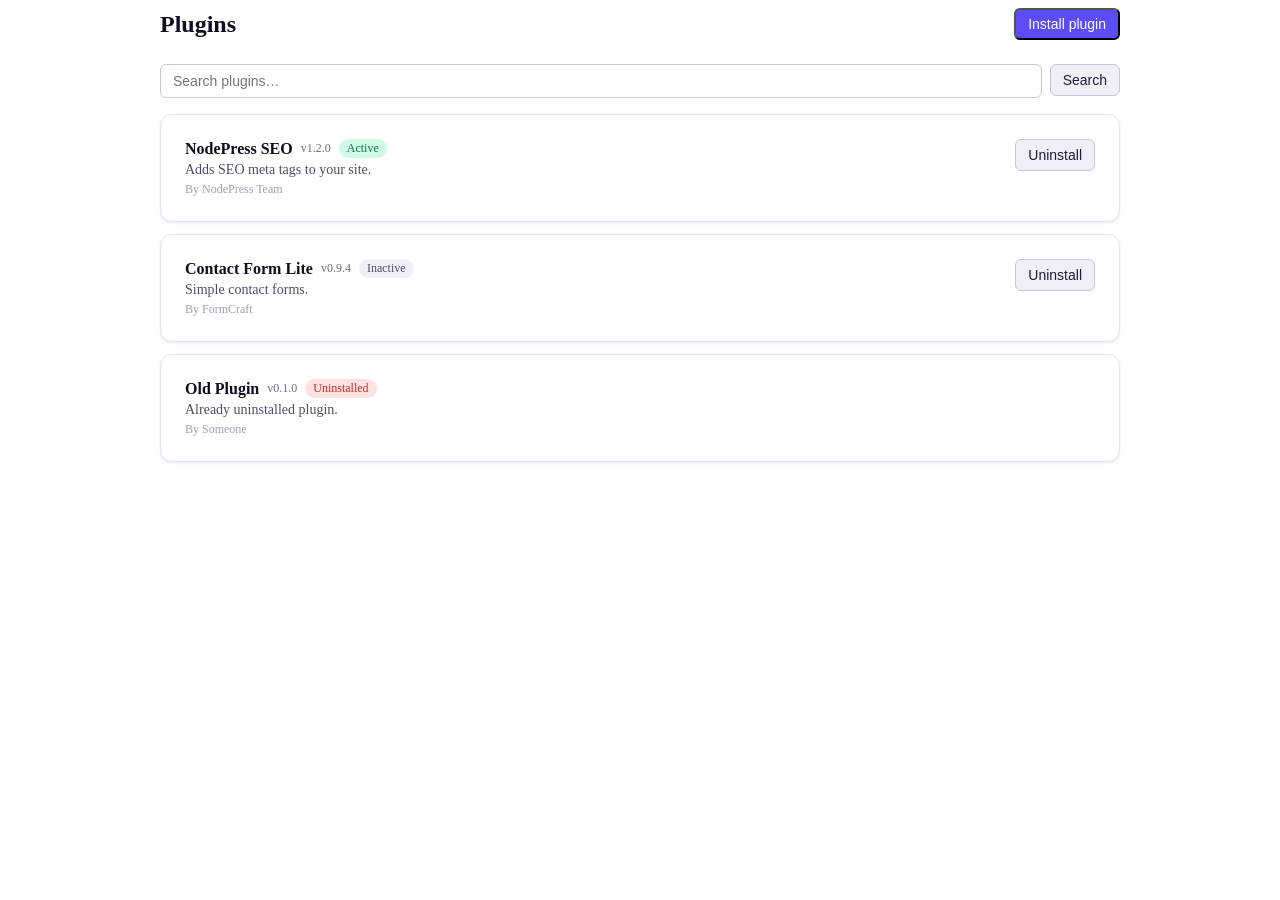
Test: PluginsPage — marketplace (Sprint 7) › shows Install plugin button that opens the install modal
This screenshot has width=1280, height=900.
Check: the text "NodePress SEO" is shown, box [185,140,293,158]
Step 1. Click the button "Install plugin" → x=1067, y=24, box [1014,8,1120,40]
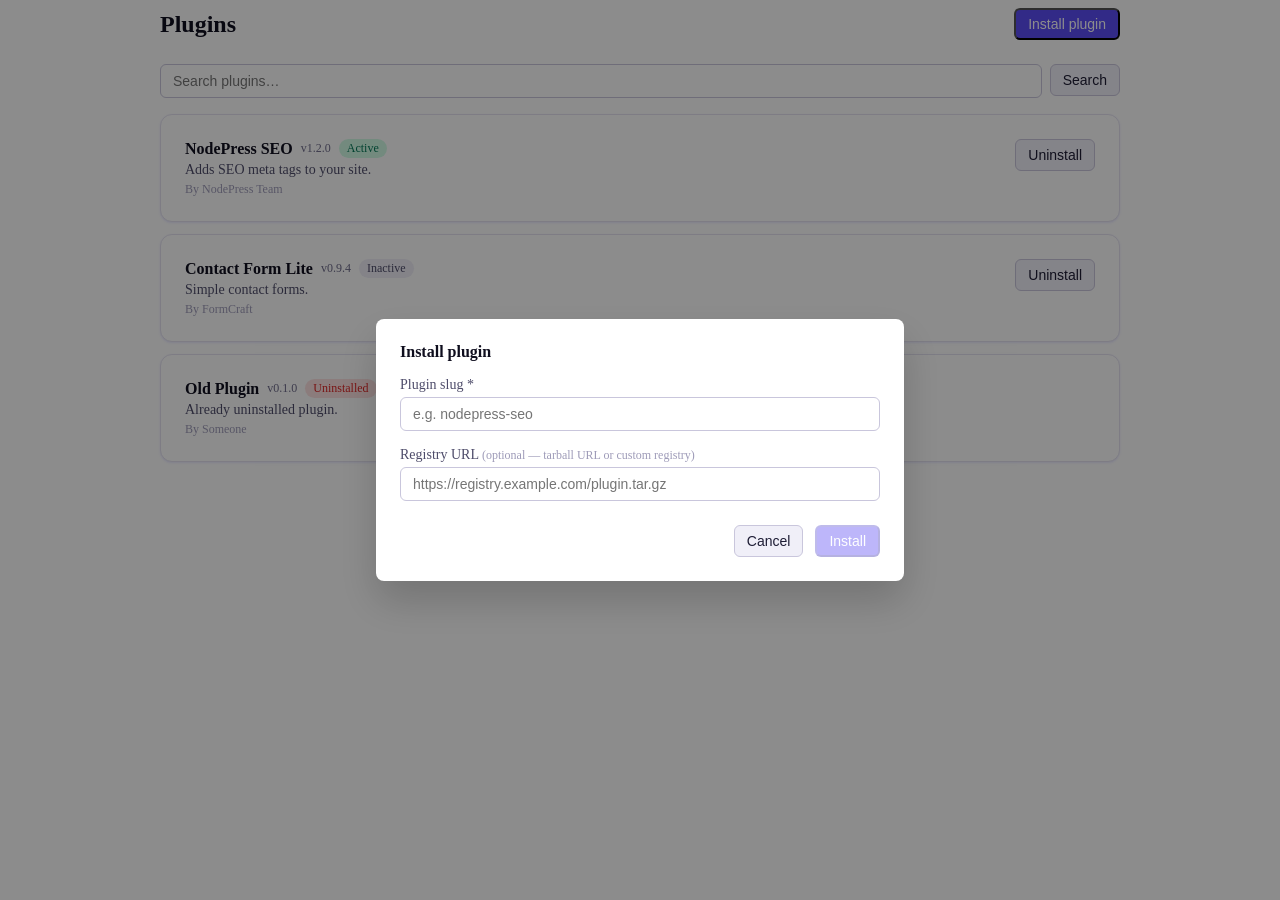
Check: the dialog "Install plugin" is shown
